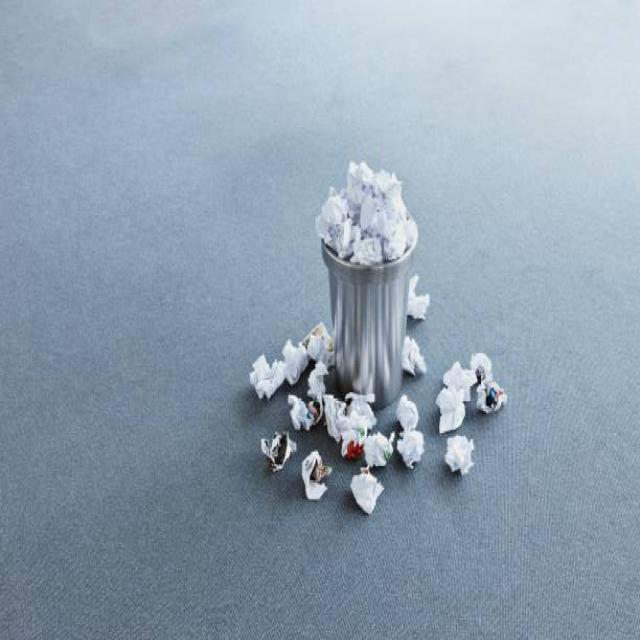electronic: (315, 159, 415, 265), (249, 353, 285, 400), (300, 448, 331, 501), (259, 428, 296, 472), (349, 469, 384, 515), (435, 384, 465, 433), (443, 433, 475, 475), (282, 338, 308, 384), (406, 273, 430, 320), (396, 392, 418, 432)
